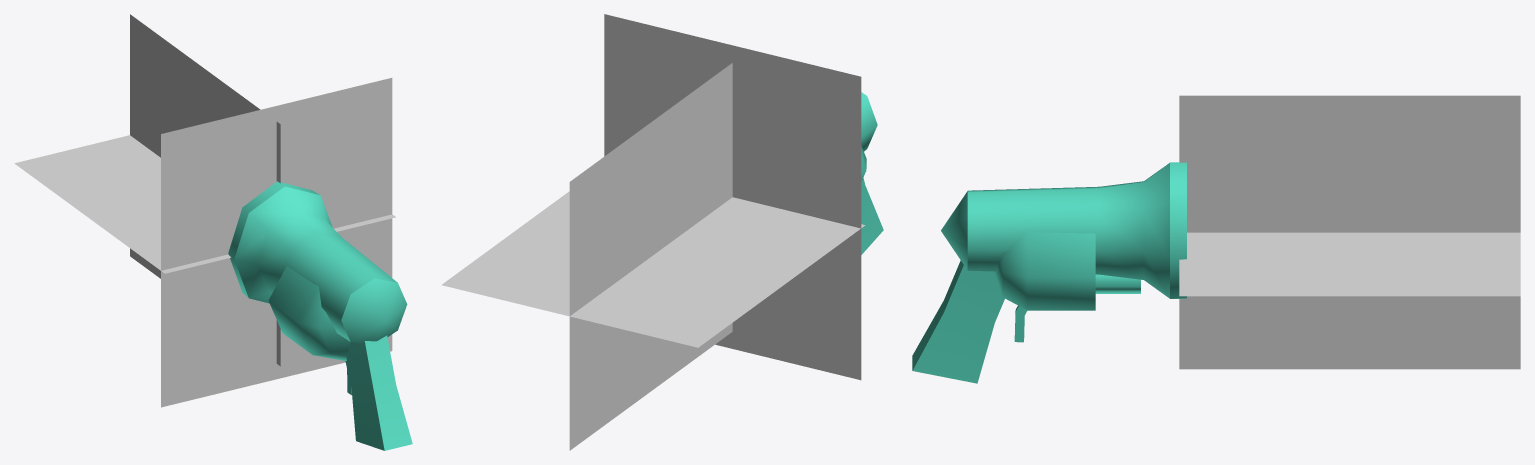
File: weapon_pistol.FBX
3 views of the same model, side by side, from view 1: azimuth 30°, elevation 25°; view 2: azimuth 150°, elevation 25°; view 3: azimuth 270°, elevation 25° (orthographic). The views are drawn at different scales.
Visible parts, largest first — view 1: ShootFx, weapon_pistol; view 2: ShootFx, weapon_pistol; view 3: ShootFx, weapon_pistol.
Boxes of the visible parts, left/top/right/bottom form: ShootFx: left=14, top=14, right=395, bottom=407; weapon_pistol: left=228, top=181, right=412, bottom=450; ShootFx: left=441, top=14, right=865, bottom=450; weapon_pistol: left=861, top=92, right=883, bottom=254; ShootFx: left=1179, top=95, right=1520, bottom=369; weapon_pistol: left=912, top=162, right=1186, bottom=383.
Bounding box in the file's own units: 16.43 × 33.04 × 18.54.
